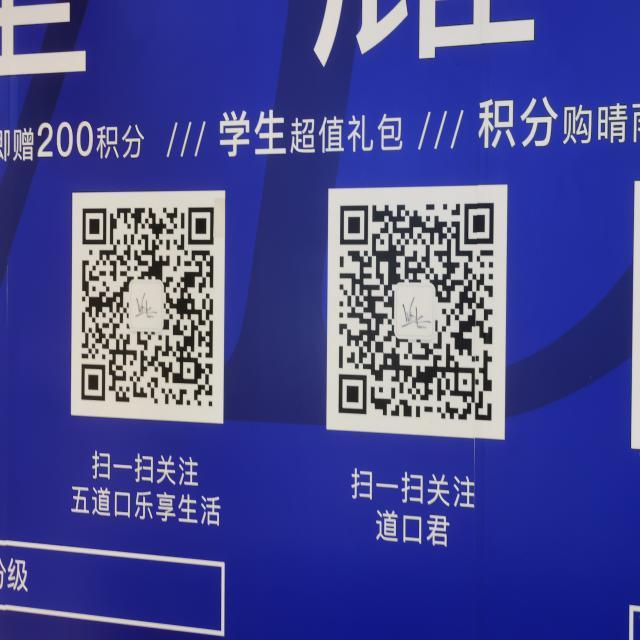qr_code: (339, 203, 494, 421), (81, 207, 214, 407)
